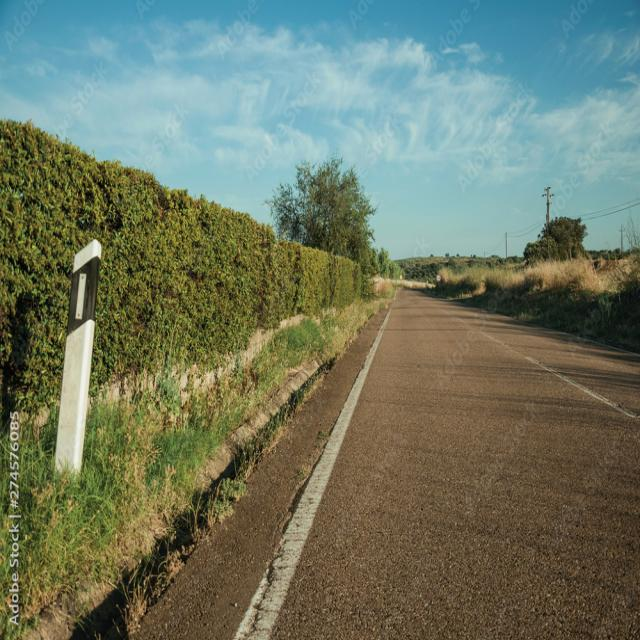Pothole: (16, 337, 399, 640)
